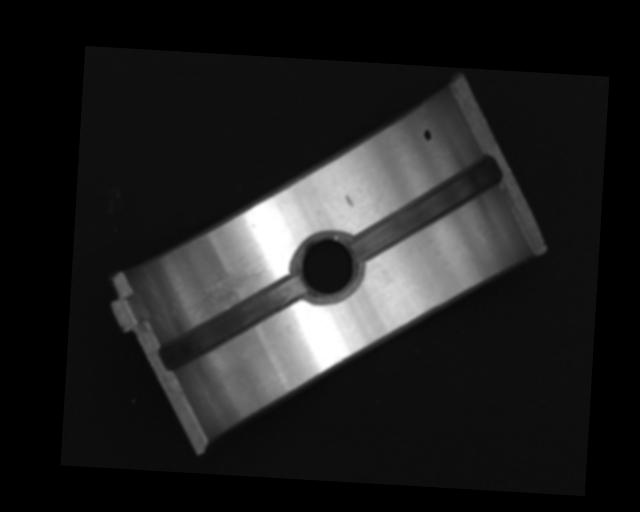blot: (423, 129, 432, 142)
bruise: (343, 195, 354, 207)
gap: (355, 150, 496, 267), (161, 269, 304, 380)
hole: (292, 230, 364, 306)
scratch: (186, 261, 269, 324)
